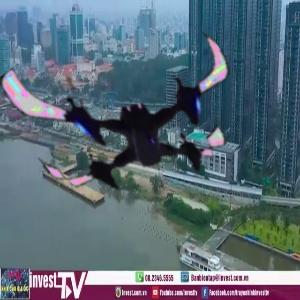drone: (26, 3, 250, 227)
